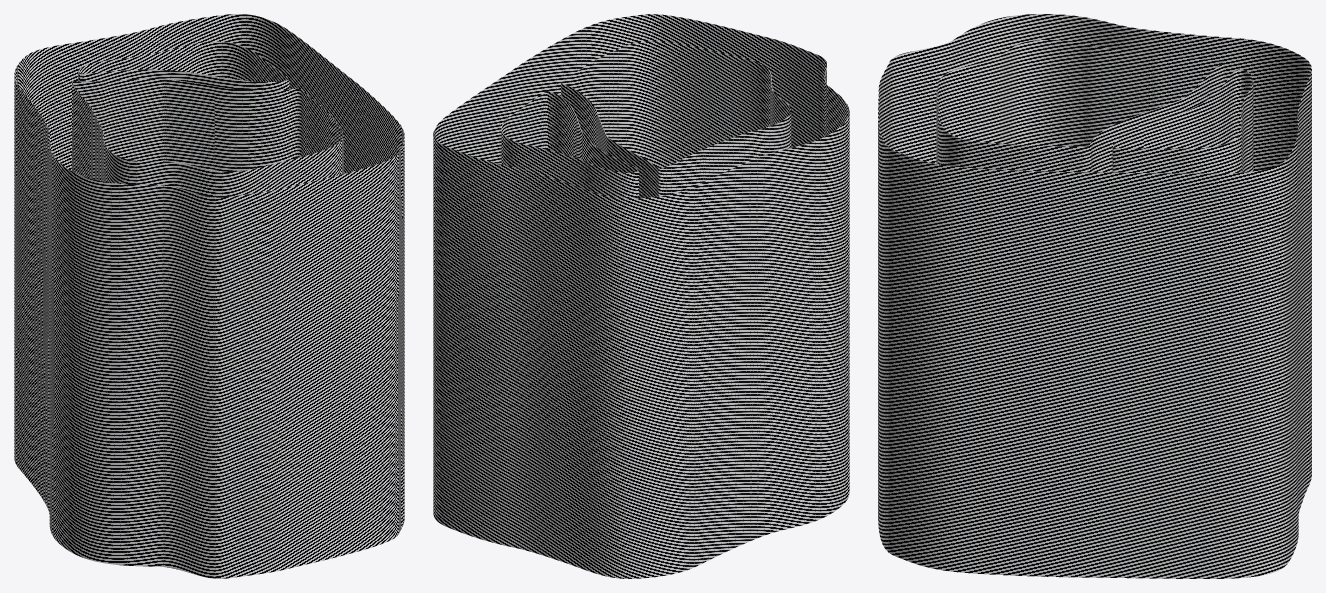
File: Border.fbx
3 views of the same model, side by side, from view 1: azimuth 30°, elevation 25°; view 2: azimuth 150°, elevation 25°; view 3: azimuth 270°, elevation 25° (orthographic). The views are drawn at different scales.
Parts seen in each view (by area): view 1: Border; view 2: Border; view 3: Border.
Part boxes in pixels (x1,y1,x2,y2): Border: (14, 14, 404, 578); Border: (433, 14, 849, 578); Border: (878, 14, 1311, 578).
Bounding box in the file's own units: 4234 × 5002 × 4855.
